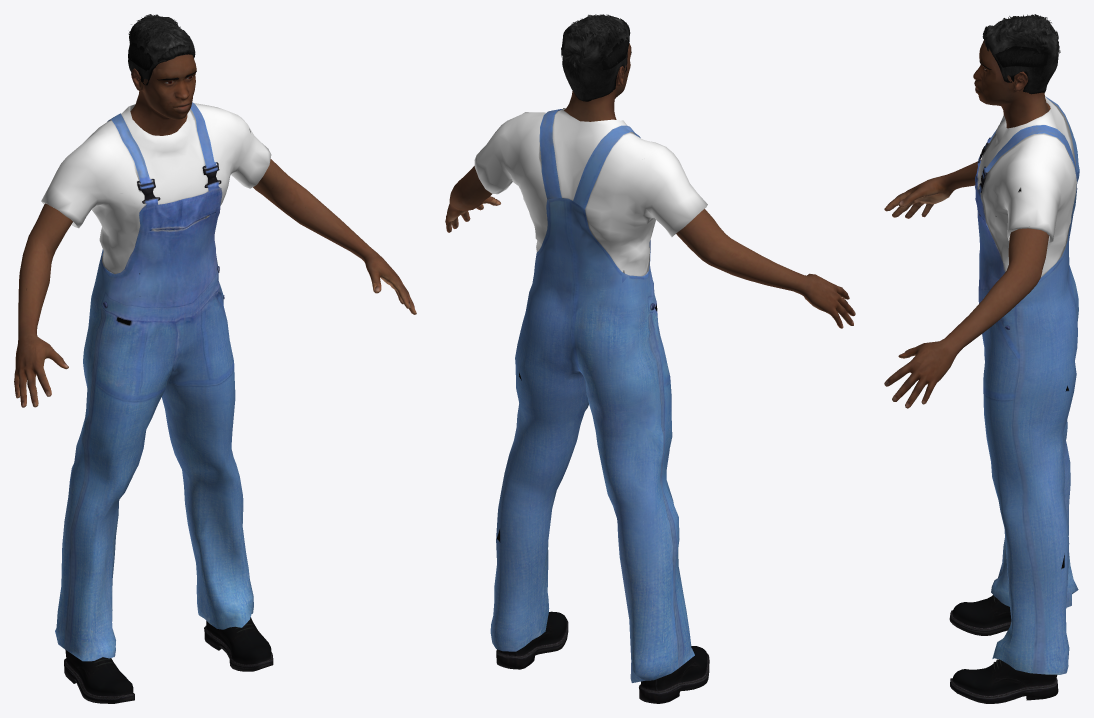
Rendered from h_ouvrier.glb.
The picture shows the model from 3 angles, left to right: view 1: azimuth 30°, elevation 25°; view 2: azimuth 150°, elevation 25°; view 3: azimuth 270°, elevation 25°; orthographic projection. The views are drawn at different scales.
Parts seen in each view (by area): view 1: Human; view 2: Human; view 3: Human.
Part boxes in pixels (x1,y1,x2,y2): Human: (14, 14, 416, 703); Human: (445, 14, 855, 703); Human: (884, 14, 1079, 703).
Size of the model in its own units: 1.22 by 1.91 by 0.5253.
Materials: 1 (1 with a texture image).
